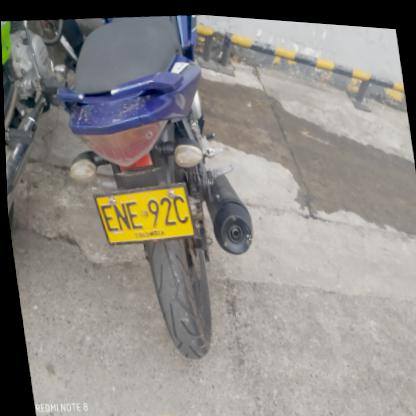placa: (80, 164, 205, 259)
